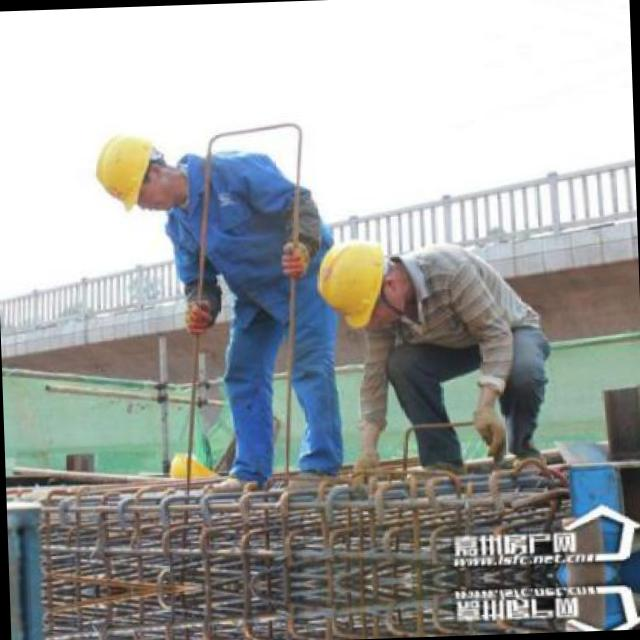helmet: (82, 122, 185, 222), (308, 232, 407, 332)
